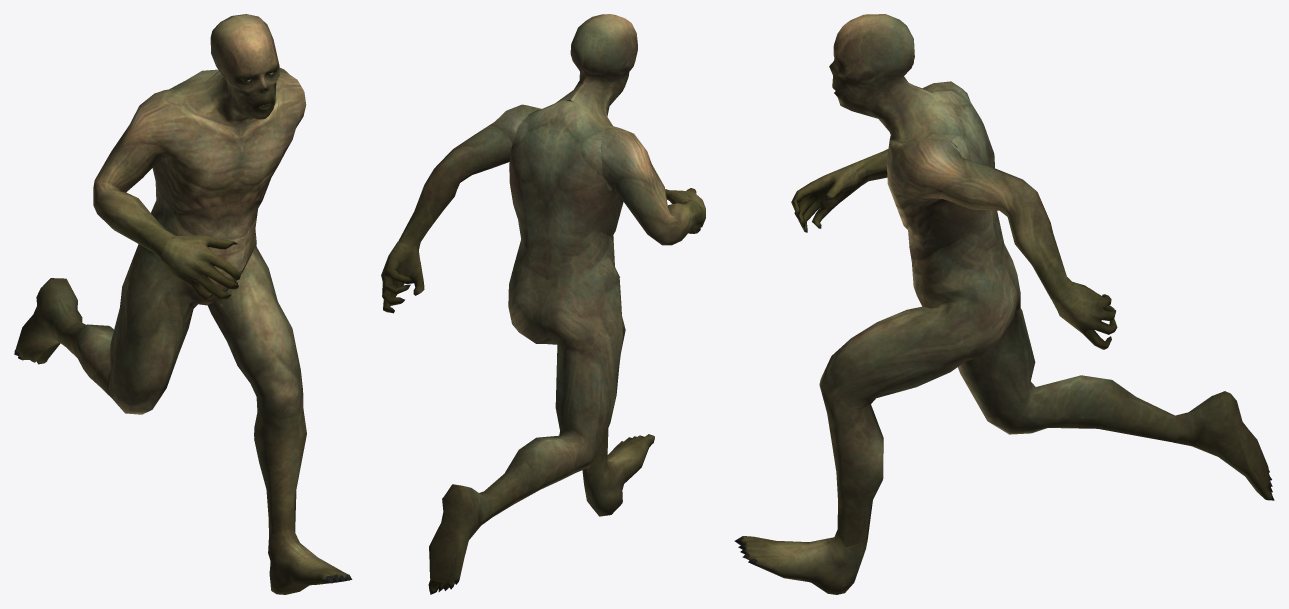
Rendered from runner.glb.
3 renders of one model, left to right at view 1: azimuth 30°, elevation 25°; view 2: azimuth 150°, elevation 25°; view 3: azimuth 270°, elevation 25°, orthographic. The views are drawn at different scales.
Parts seen in each view (by area): view 1: posed_runner; view 2: posed_runner; view 3: posed_runner.
Part boxes in pixels (x1,y1,x2,y2): posed_runner: (14, 14, 352, 594); posed_runner: (381, 14, 705, 594); posed_runner: (734, 14, 1274, 594).
Size of the model in its own units: 0.7241 by 1.56 by 1.35.
Materials: 1 (1 with a texture image).
